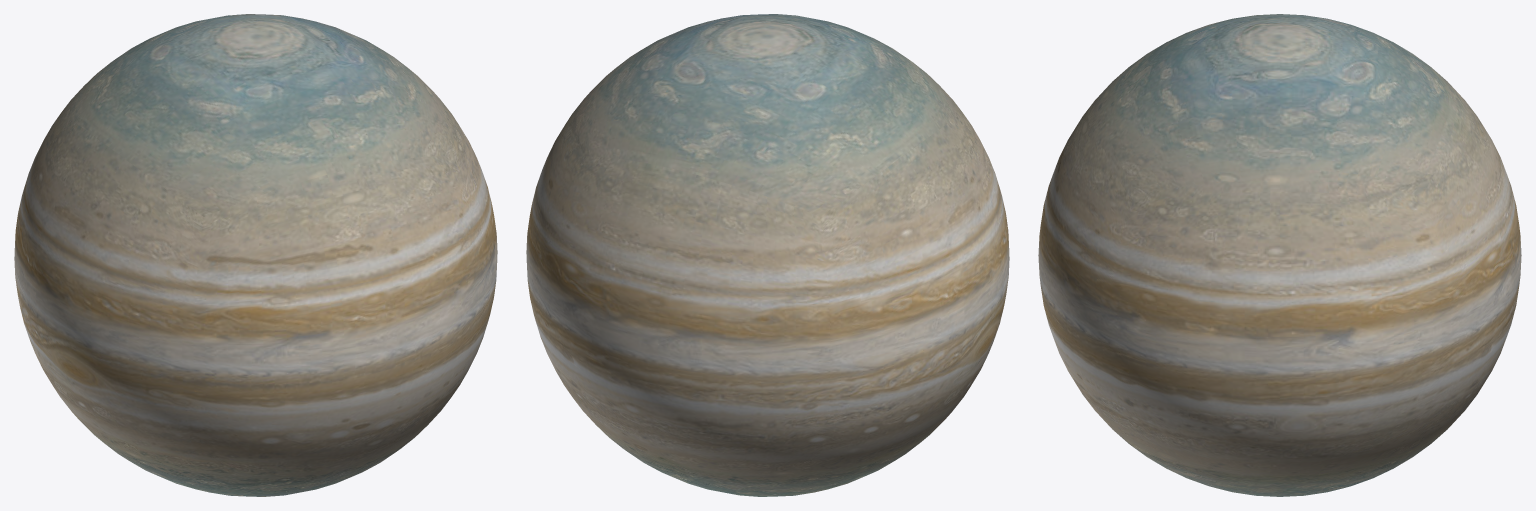
The model's file is nasa-jupiter.glb.
3 renders of one model, left to right at view 1: azimuth 30°, elevation 25°; view 2: azimuth 150°, elevation 25°; view 3: azimuth 270°, elevation 25°, orthographic.
Visible parts, largest first — view 1: cubemap; view 2: cubemap; view 3: cubemap.
Part boxes in pixels (x1,y1,x2,y2): cubemap: (14,14,497,496); cubemap: (526,14,1009,496); cubemap: (1038,14,1521,496).
Size of the model in its own units: 2 by 2 by 2.
Materials: 1 (1 with a texture image).
